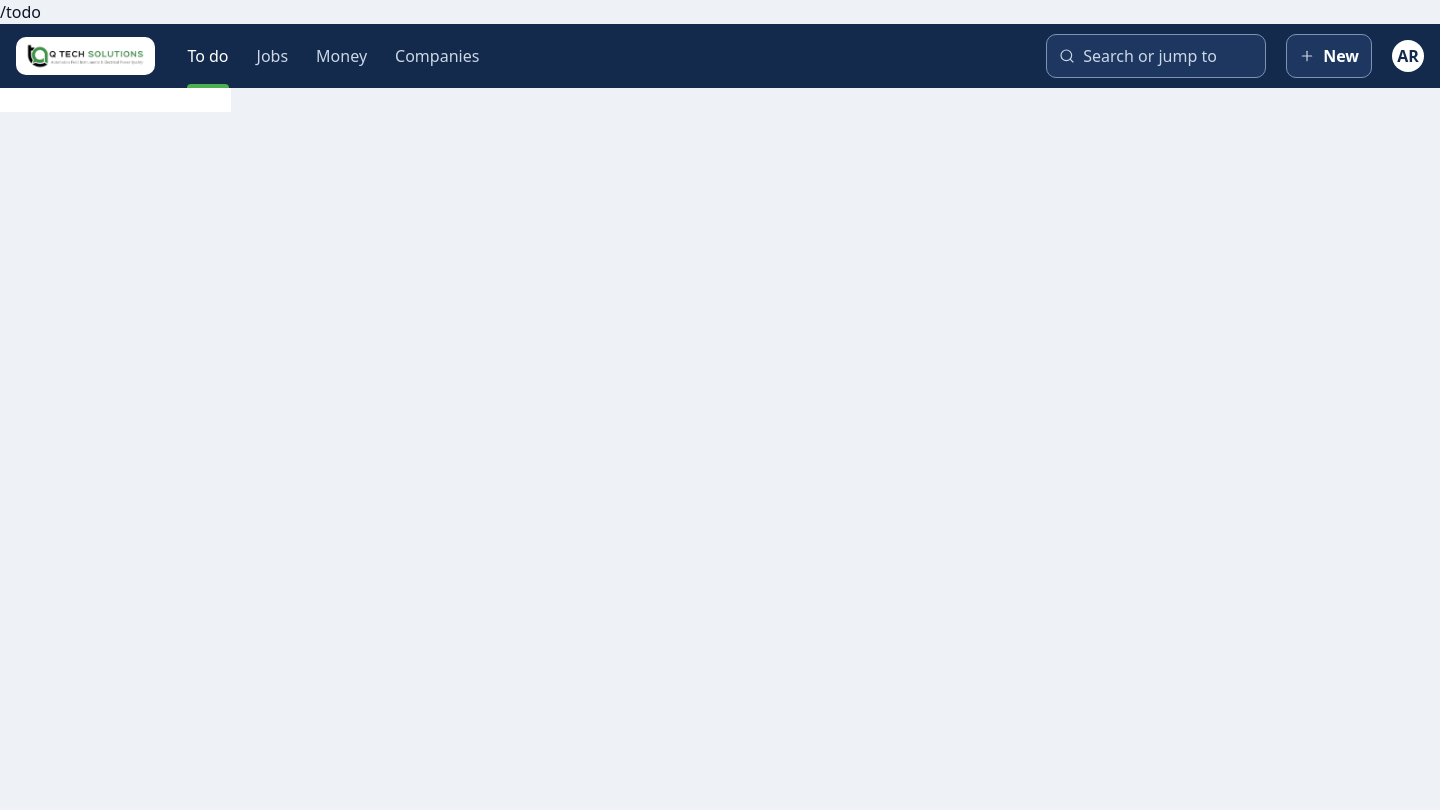
Test: palette Actions and global shortcuts (A-89) › idle lists Actions: New enquiry (N), Go to To do (G T); no Paste or photo any more
This screenshot has width=1440, height=810.
Click the button "Search or jump to": (1156, 56) [1046,34,1266,78]
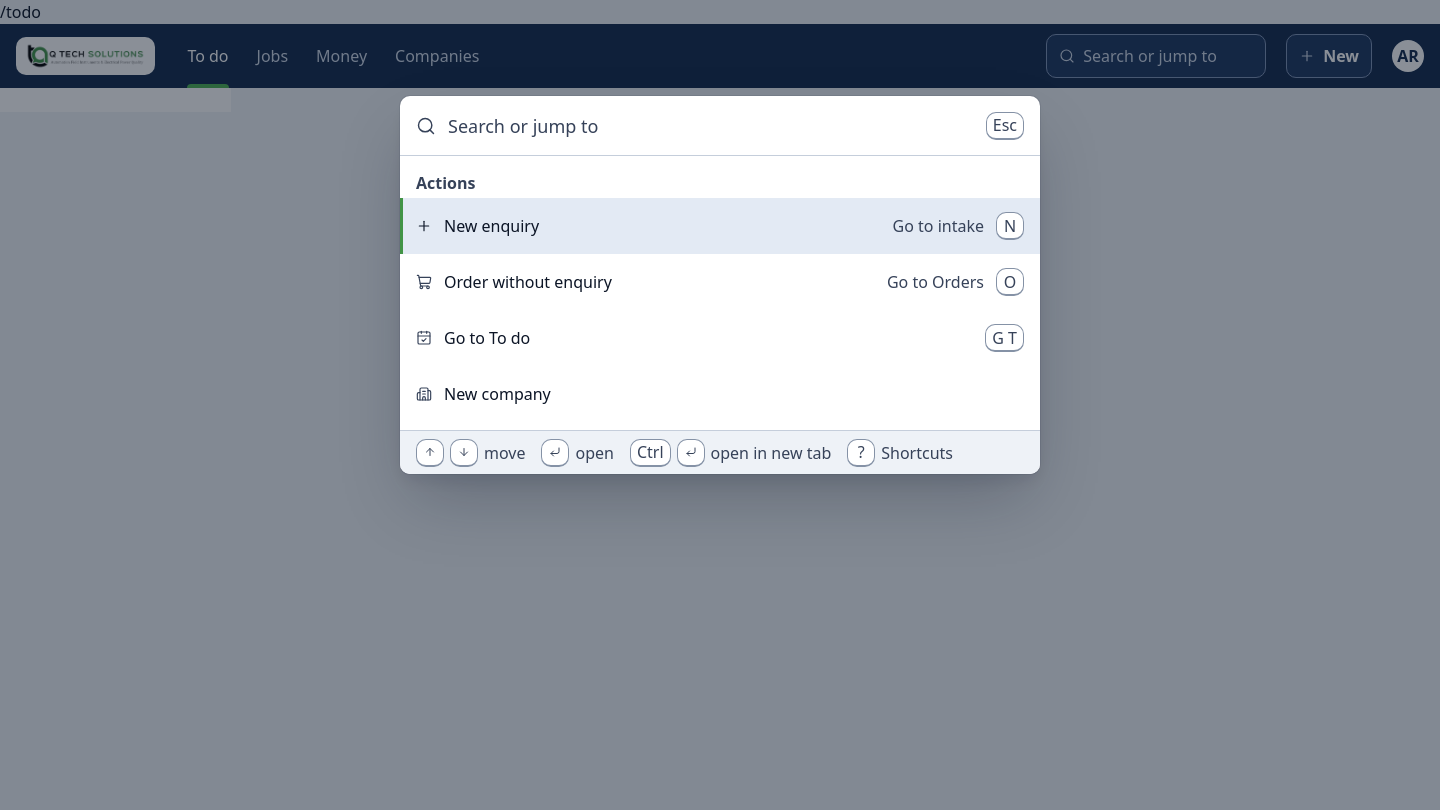
Check: the text "Actions" is shown, box [416,172,476,194]
